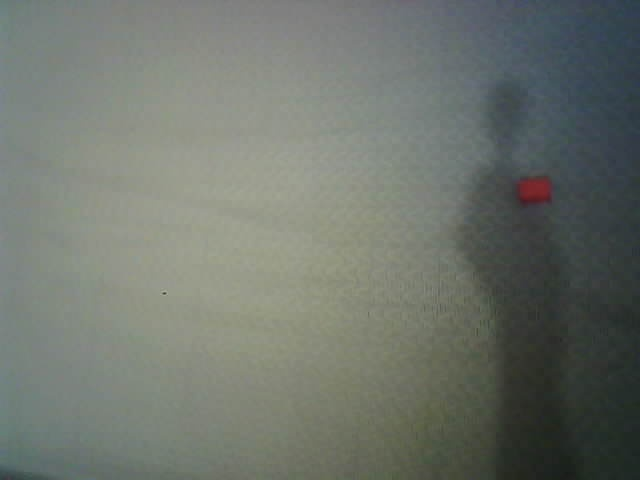lego: (516, 177, 553, 204)
